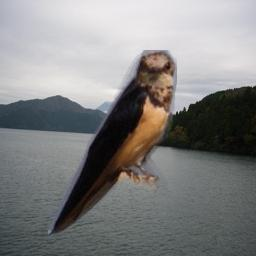Swallow: (48, 50, 177, 241)
